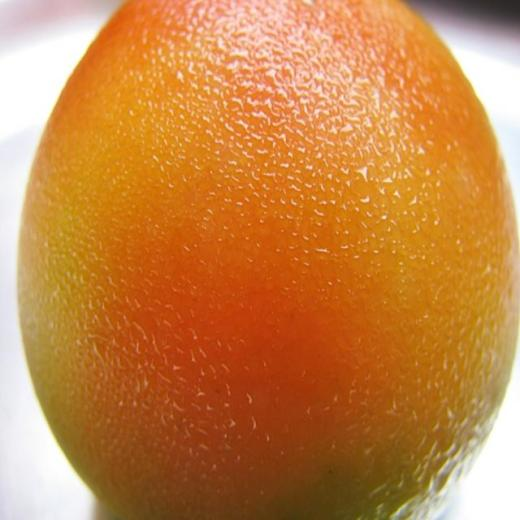Grape: (17, 0, 520, 520)
